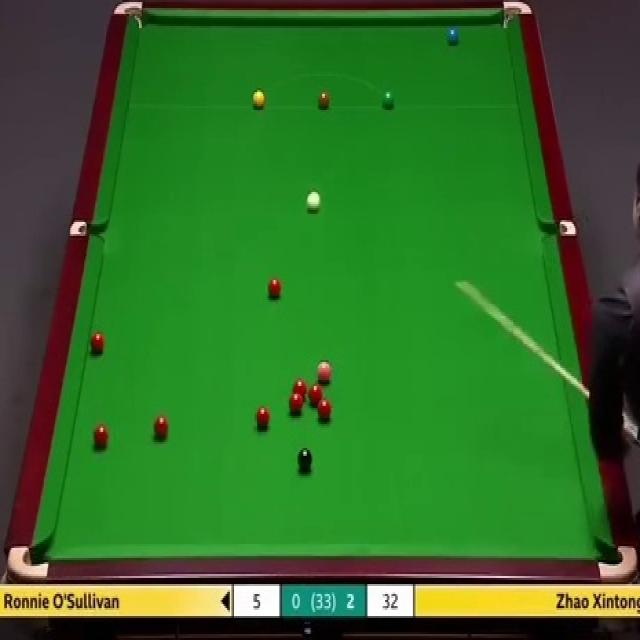black-ball: (297, 448, 314, 473)
blue-ball: (445, 22, 461, 47)
brown-ball: (317, 91, 331, 111)
green-ball: (382, 90, 396, 112)
pink-ball: (314, 361, 332, 385)
red-ball: (92, 423, 110, 451), (152, 414, 170, 439), (267, 276, 283, 300), (288, 393, 304, 416), (256, 405, 270, 431), (89, 331, 104, 355), (291, 379, 308, 400), (317, 398, 332, 420), (311, 382, 327, 402)
white-ball: (303, 189, 323, 215)
yellow-ball: (252, 90, 266, 110)
